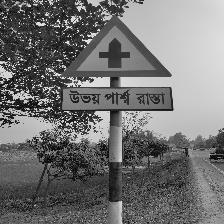Crossroad: (50, 11, 185, 125)
